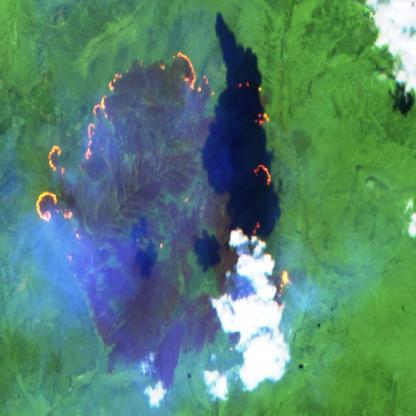fire: (34, 47, 293, 307)
